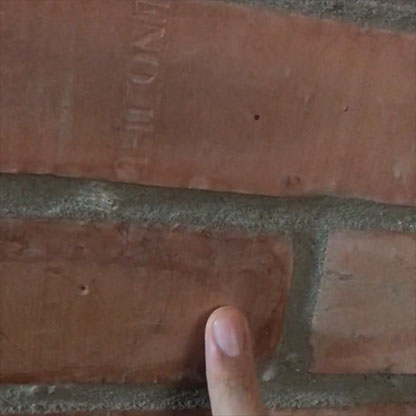fingertip: (197, 292, 264, 369)
